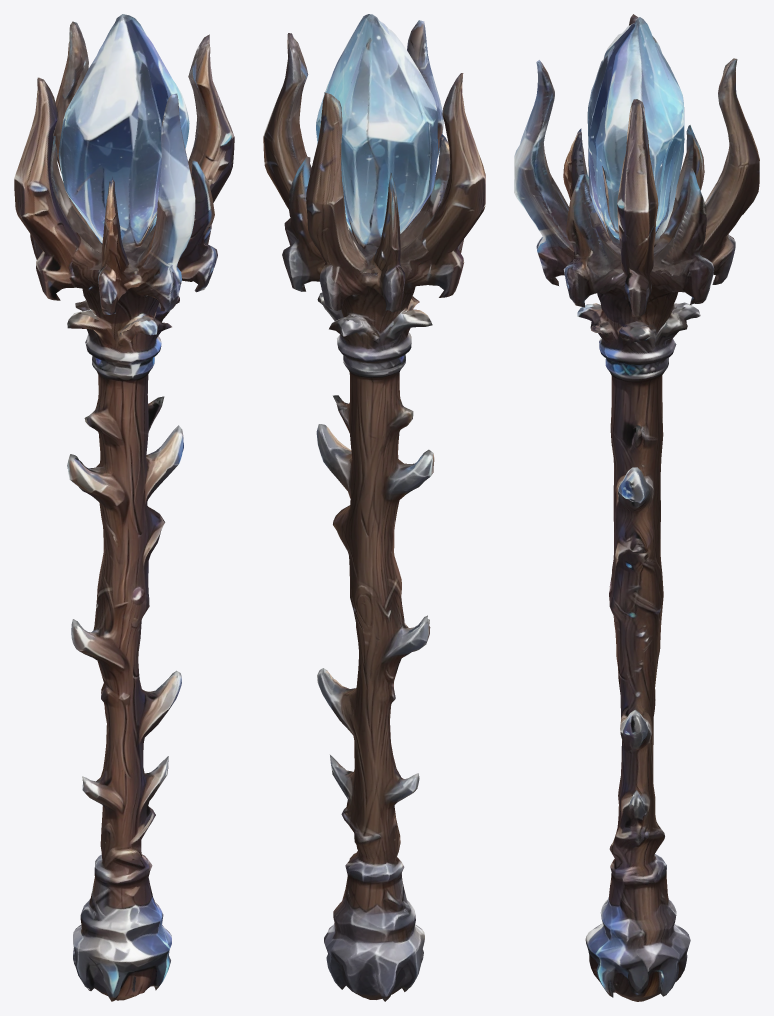
Rendered from darkshade-scepter.glb.
3 views of the same model, side by side, from view 1: azimuth 30°, elevation 25°; view 2: azimuth 150°, elevation 25°; view 3: azimuth 270°, elevation 25° (orthographic).
Size of the model in its own units: 0.4499 by 2 by 0.4537.
1 material, 1 textured.
